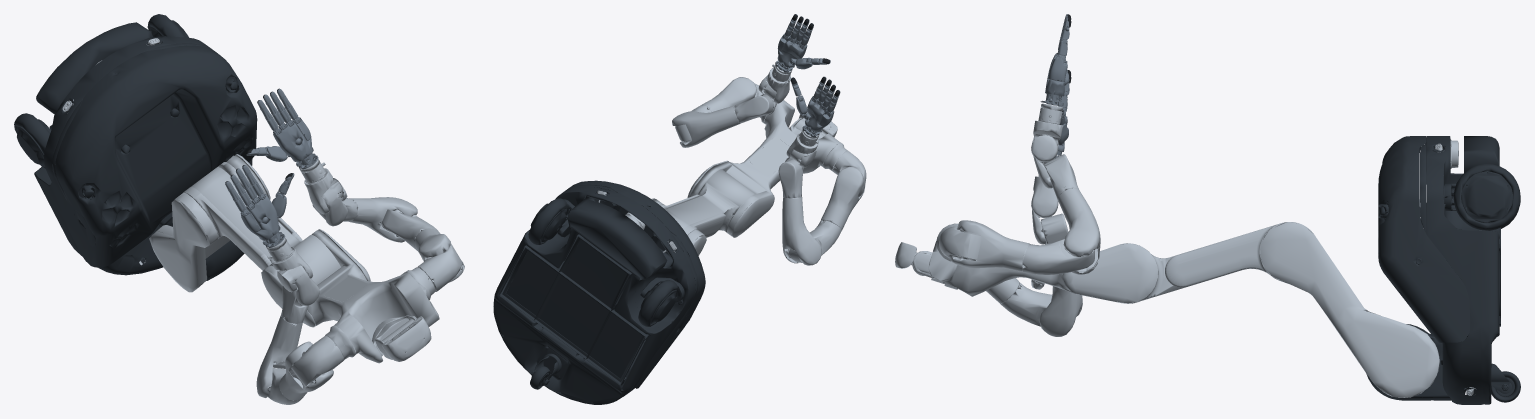
Rendered from dexmate.glb.
3 renders of one model, left to right at view 1: azimuth 30°, elevation 25°; view 2: azimuth 150°, elevation 25°; view 3: azimuth 270°, elevation 25°, orthographic. The views are drawn at different scales.
Visible parts, largest first — view 1: Dexmate_base, Dexmate_torso_l3, Dexmate_torso_l2, Dexmate_torso_l1, Dexmate_L_arm_l4, Dexmate_R_arm_l4, Dexmate_L_arm_l1, Dexmate_head_l3, Dexmate_L_wheel_l2, Dexmate_L_arm_l2, Dexmate_R_arm_l1, Dexmate_L_arm_l6 (+11 smaller); view 2: Dexmate_base, Dexmate_torso_l3, Dexmate_torso_l2, Dexmate_L_arm_l4, Dexmate_L_arm_l2, Dexmate_R_arm_l4, Dexmate_L_wheel_l2, Dexmate_R_wheel_l2, Dexmate_R_arm_l2, Dexmate_L_arm_l5, Dexmate_R_arm_l5, Dexmate_L_arm_l3 (+6 smaller); view 3: Dexmate_base, Dexmate_torso_l1, Dexmate_torso_l3, Dexmate_torso_l2, Dexmate_R_wheel_l2, Dexmate_R_arm_l4, Dexmate_R_arm_l2, Dexmate_R_arm_l3, Dexmate_L_arm_l4, Dexmate_L_arm_l3, Dexmate_R_arm_l1, Dexmate_R_arm_l5 (+3 smaller).
Part boxes in pixels (left/top/right/bottom): Dexmate_base: left=34, top=22, right=257, bottom=280; Dexmate_torso_l3: left=261, top=229, right=439, bottom=363; Dexmate_torso_l2: left=183, top=162, right=341, bottom=284; Dexmate_torso_l1: left=149, top=154, right=270, bottom=292; Dexmate_L_arm_l4: left=256, top=315, right=302, bottom=397; Dexmate_R_arm_l4: left=349, top=197, right=417, bottom=242; Dexmate_L_arm_l1: left=291, top=335, right=343, bottom=386; Dexmate_head_l3: left=382, top=316, right=431, bottom=361; Dexmate_L_wheel_l2: left=14, top=113, right=51, bottom=169; Dexmate_L_arm_l2: left=279, top=341, right=333, bottom=400; Dexmate_R_arm_l1: left=417, top=243, right=462, bottom=291; Dexmate_L_arm_l6: left=277, top=265, right=319, bottom=305; Dexmate_base: left=493, top=180, right=705, bottom=404; Dexmate_torso_l3: left=687, top=100, right=847, bottom=237; Dexmate_torso_l2: left=660, top=169, right=755, bottom=237; Dexmate_L_arm_l4: left=782, top=197, right=821, bottom=265; Dexmate_L_arm_l2: left=821, top=166, right=865, bottom=229; Dexmate_R_arm_l4: left=672, top=105, right=740, bottom=147; Dexmate_L_wheel_l2: left=638, top=280, right=678, bottom=326; Dexmate_R_wheel_l2: left=528, top=198, right=568, bottom=244; Dexmate_R_arm_l2: left=702, top=77, right=756, bottom=112; Dexmate_L_arm_l5: left=778, top=159, right=802, bottom=198; Dexmate_R_arm_l5: left=734, top=96, right=773, bottom=123; Dexmate_L_arm_l3: left=788, top=220, right=841, bottom=262; Dexmate_base: left=1366, top=136, right=1500, bottom=404; Dexmate_torso_l1: left=1260, top=222, right=1439, bottom=397; Dexmate_torso_l3: left=928, top=223, right=1158, bottom=303; Dexmate_torso_l2: left=1117, top=222, right=1314, bottom=303; Dexmate_R_wheel_l2: left=1453, top=164, right=1520, bottom=230; Dexmate_R_arm_l4: left=1058, top=188, right=1100, bottom=274; Dexmate_R_arm_l2: left=950, top=220, right=1029, bottom=271; Dexmate_R_arm_l3: left=1022, top=239, right=1094, bottom=274; Dexmate_L_arm_l4: left=1039, top=286, right=1082, bottom=336; Dexmate_L_arm_l3: left=1000, top=282, right=1052, bottom=326; Dexmate_R_arm_l1: left=939, top=226, right=981, bottom=260; Dexmate_R_arm_l5: left=1044, top=154, right=1078, bottom=200.
Size of the model in its own units: 0.6639 by 0.9842 by 1.6.
